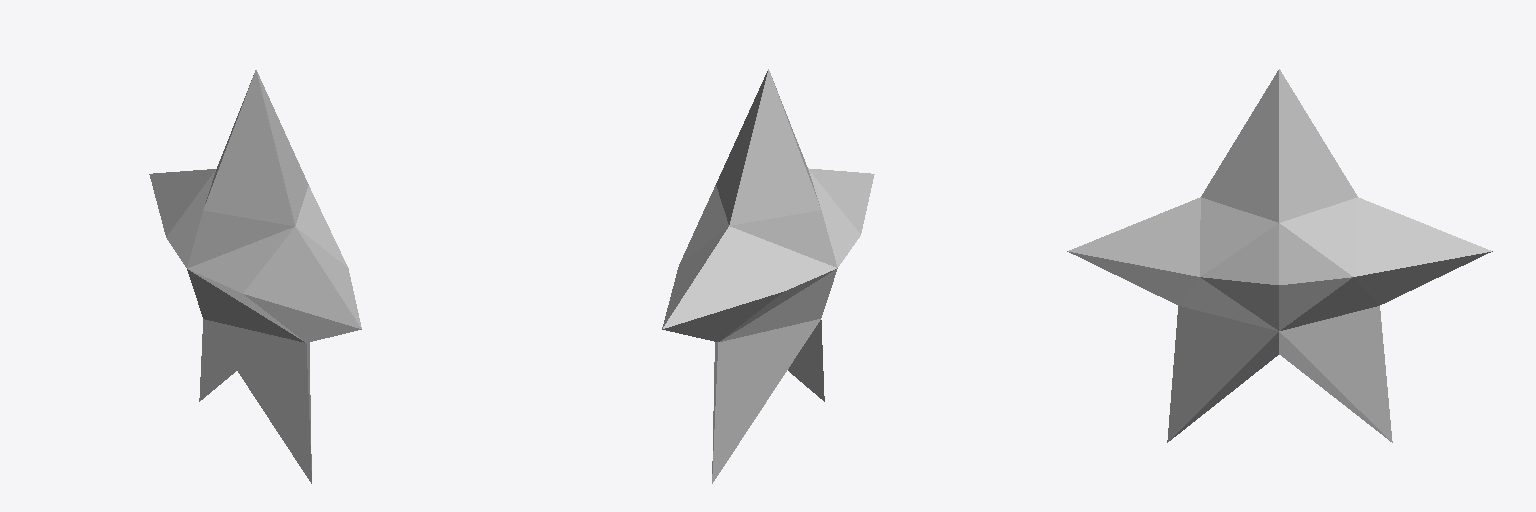
File: normal_star_28.obj
3 renders of one model, left to right at view 1: azimuth 30°, elevation 25°; view 2: azimuth 150°, elevation 25°; view 3: azimuth 270°, elevation 25°, orthographic.
Parts seen in each view (by area): view 1: normal_star_28; view 2: normal_star_28; view 3: normal_star_28.
Part boxes in pixels (bbox=[...]): normal_star_28: bbox=[149, 70, 361, 483]; normal_star_28: bbox=[662, 69, 874, 483]; normal_star_28: bbox=[1067, 69, 1492, 442].
Size of the model in its own units: 1.43 by 3.68 by 3.79.